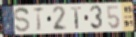2: (51, 5, 68, 32)
3: (89, 4, 105, 31)
5: (106, 5, 121, 30)
S: (13, 7, 31, 33)
T: (32, 6, 45, 32), (70, 6, 83, 31)
